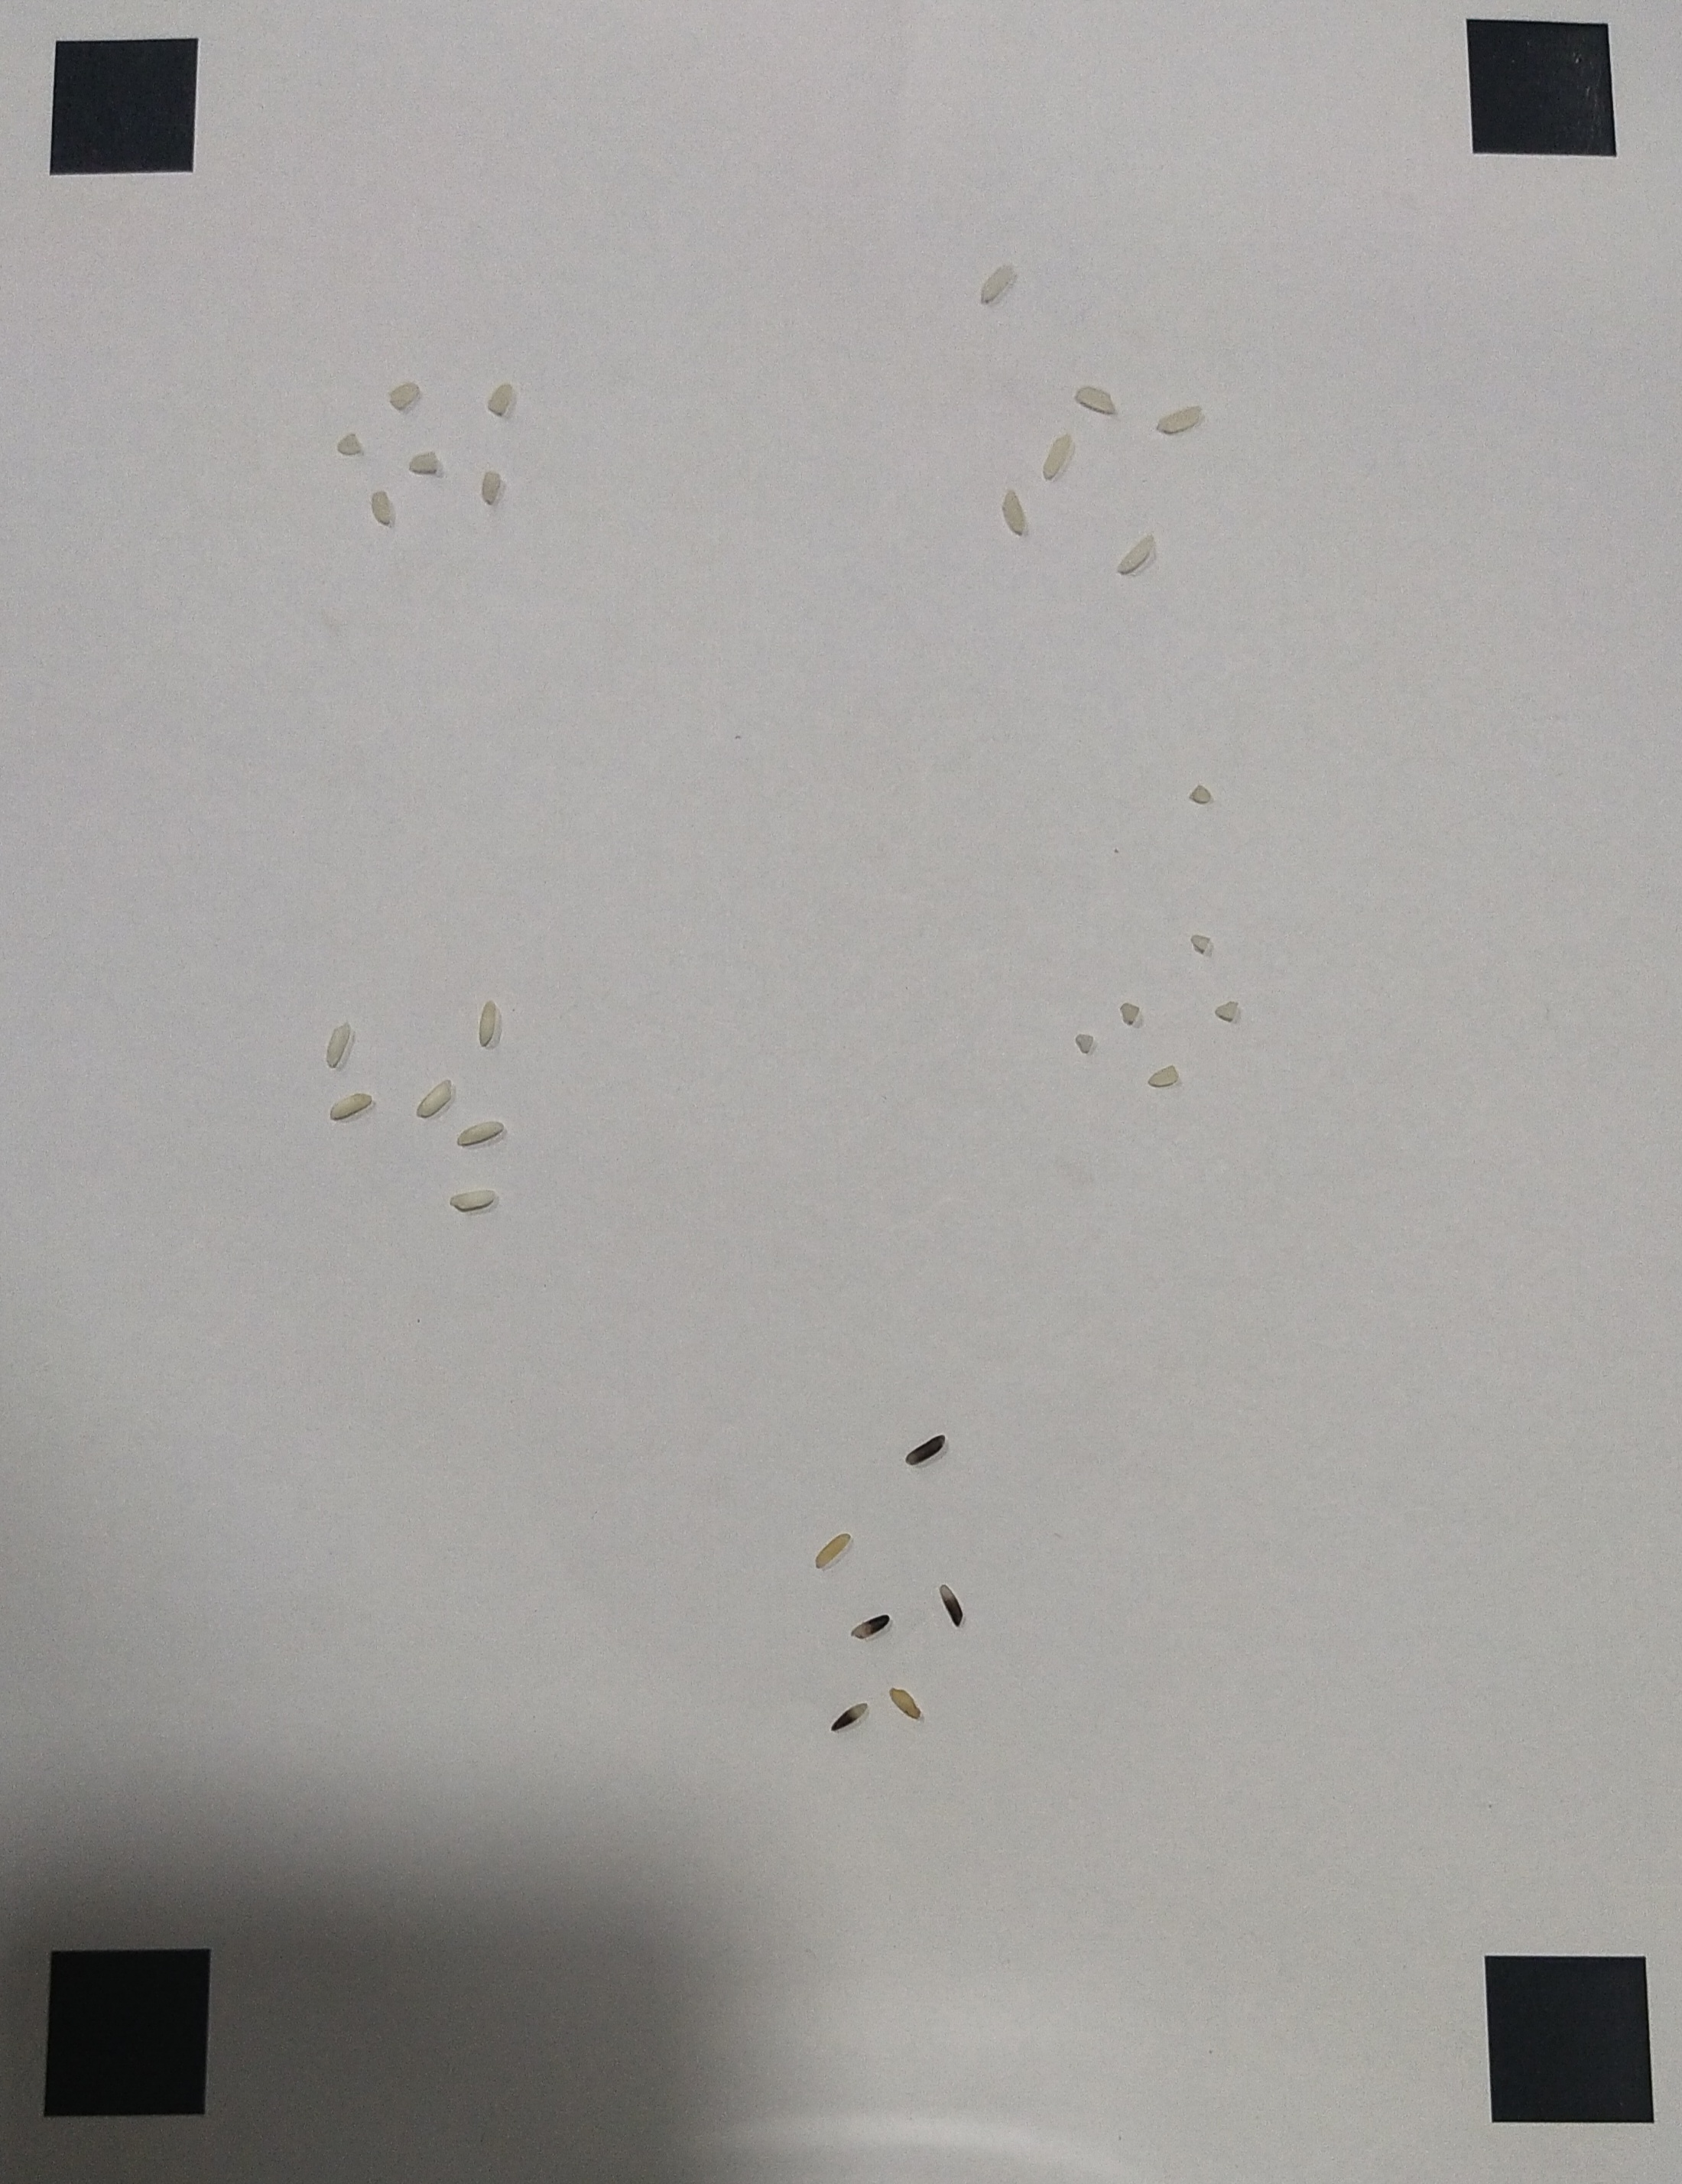broken: (1148, 1064, 1178, 1090), (1214, 998, 1239, 1021), (1187, 931, 1214, 951), (1120, 1002, 1141, 1023), (1187, 785, 1212, 802), (1072, 1032, 1094, 1051)
chalky: (415, 1081, 452, 1119), (456, 1120, 504, 1147), (330, 1092, 375, 1120), (449, 1189, 498, 1212), (327, 1023, 352, 1069), (479, 998, 496, 1046)
damage: (390, 382, 420, 408), (371, 491, 392, 528), (489, 382, 512, 413), (410, 451, 438, 475), (481, 466, 500, 502), (339, 435, 359, 456)
discolor: (813, 1532, 852, 1569), (905, 1433, 947, 1467), (938, 1581, 966, 1627), (850, 1611, 890, 1643), (889, 1684, 922, 1721), (830, 1703, 871, 1730)
good: (1041, 428, 1072, 484), (1117, 534, 1155, 574), (981, 262, 1016, 304), (1000, 488, 1028, 537), (1157, 406, 1205, 435), (1074, 383, 1115, 413)
